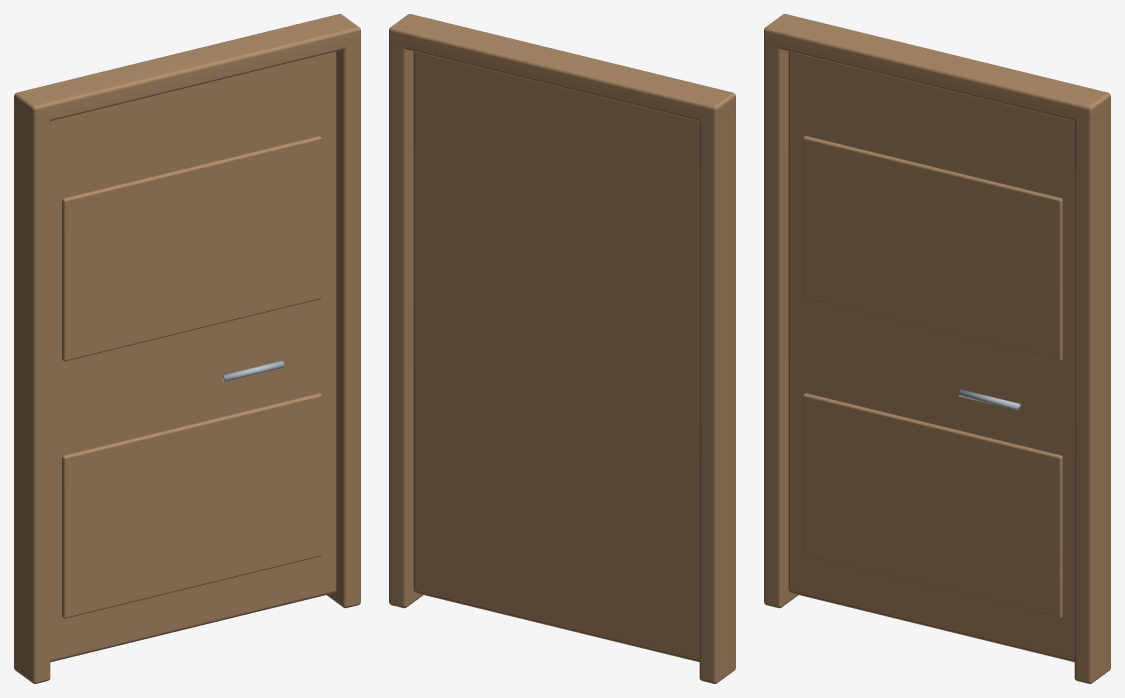
Rendered from atelier-single-door.glb.
3 renders of one model, left to right at view 1: azimuth 30°, elevation 25°; view 2: azimuth 150°, elevation 25°; view 3: azimuth 330°, elevation 25°, orthographic.
Visible parts, largest first — view 1: legs.243; view 2: legs.243; view 3: legs.243.
Boxes of the visible parts, left/top/right/bottom form: legs.243: left=14, top=14, right=360, bottom=683; legs.243: left=389, top=14, right=735, bottom=683; legs.243: left=764, top=14, right=1110, bottom=683.
Bounding box in the file's own units: 1.27 × 2.13 × 0.14.
